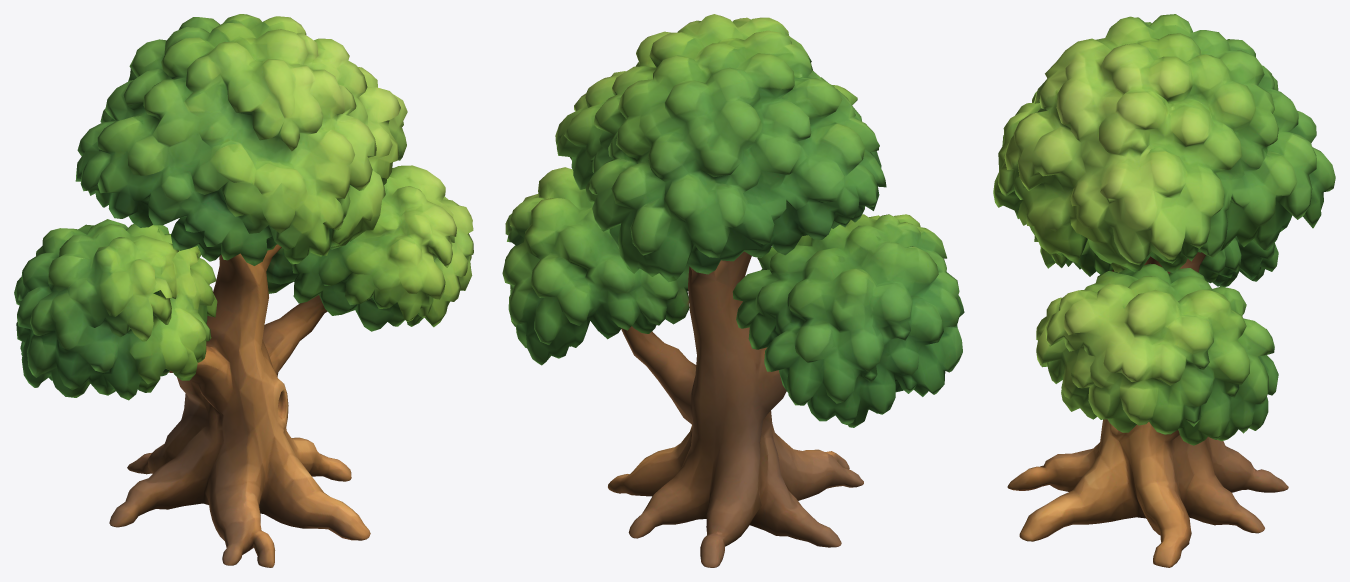
The model's file is tree.glb.
3 views of the same model, side by side, from view 1: azimuth 30°, elevation 25°; view 2: azimuth 150°, elevation 25°; view 3: azimuth 270°, elevation 25° (orthographic).
Parts seen in each view (by area): view 1: tripo_node_6d977b2c-7ce2-4b9c-a01e-39fbee1dc798; view 2: tripo_node_6d977b2c-7ce2-4b9c-a01e-39fbee1dc798; view 3: tripo_node_6d977b2c-7ce2-4b9c-a01e-39fbee1dc798.
Part boxes in pixels (x1,y1,x2,y2): tripo_node_6d977b2c-7ce2-4b9c-a01e-39fbee1dc798: (14, 14, 473, 567); tripo_node_6d977b2c-7ce2-4b9c-a01e-39fbee1dc798: (502, 14, 964, 567); tripo_node_6d977b2c-7ce2-4b9c-a01e-39fbee1dc798: (993, 14, 1335, 567).
Size of the model in its own units: 0.9614 by 0.9995 by 0.6479.
1 material, 1 textured.
